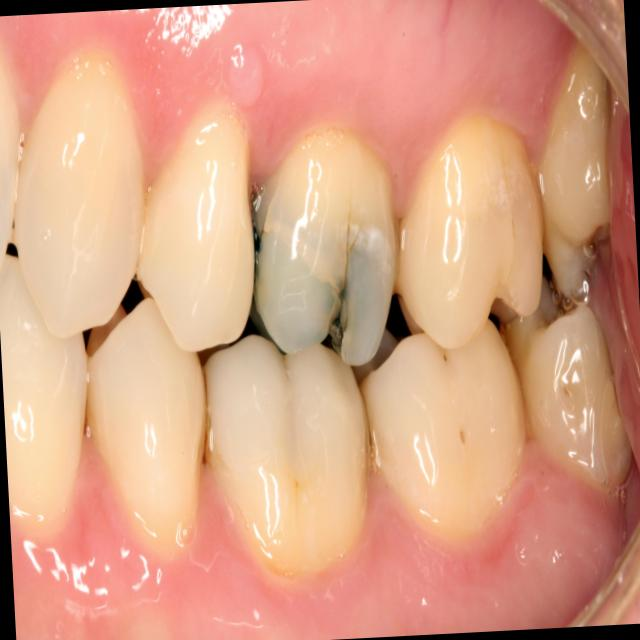Caries: (329, 312, 344, 360), (460, 429, 465, 444), (444, 355, 447, 361)
Tooth: (203, 334, 372, 580), (352, 318, 527, 538), (14, 53, 145, 341), (252, 125, 400, 366), (395, 114, 545, 349), (87, 297, 207, 555), (137, 112, 256, 354)
